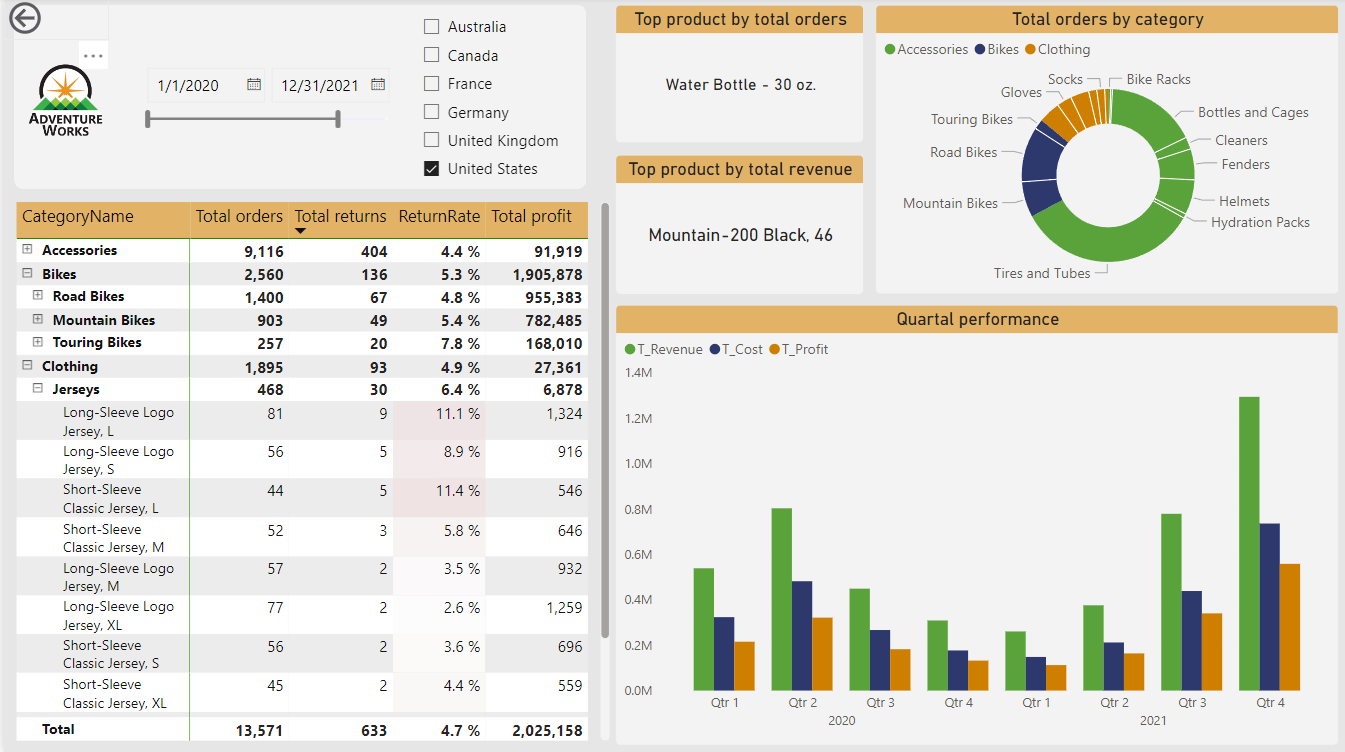

What the dashboard file says about the page in this screenshot:
{"tool":"powerbi","page":{"name":"Page 1","canvas":[1280,720],"ordinal":0},"visuals":[{"type":"shape","box":[9.5,7.4,545.1,175.9],"z":0},{"type":"actionButton","box":[0,0,100,40],"z":1000},{"type":"donutChart","title":"Total orders by category","fields":{"Category":["ProductCategory.CategoryName"],"Series":["AdventureWorks_Product_Subcategories.SubcategoryName"],"Y":["Sum(F_Sales.OrderQuantity)"]},"box":[829.5,7.1,441.5,276.1],"z":2000},{"type":"clusteredColumnChart","title":"Quartal performance","fields":{"Category":["DimCalendar.Date.Variation.Date Hierarchy.Year","DimCalendar.Date.Variation.Date Hierarchy.Quarter"],"Y":["F_Sales.T_Revenue","F_Sales.T_Cost","F_Sales.T_Profit"]},"box":[582,292.8,689.1,420.1],"z":3000},{"type":"pivotTable","fields":{"Rows":["ProductCategory.CategoryName","D_Product_Subcategories.SubcategoryName","D_Products.ProductName"],"Values":["Sum(F_Sales.OrderQuantity)","Sum(AdventureWorks_Returns.ReturnQuantity)","F_Returns.ReturnRate","F_Sales.T_Profit"]},"box":[7.1,190.4,574.8,522.4],"z":4000},{"type":"card","title":"Top product by total orders","fields":{"Values":["Min(D_Products.ProductName)"]},"box":[582,7.1,236.8,132.1],"z":5000},{"type":"card","title":"Top product by total revenue","fields":{"Values":["Min(D_Products.ProductName)"]},"box":[582,150,236.8,133.3],"z":6000},{"type":"slicer","title":"Date filter","fields":{"Values":["Calendar.Date"]},"box":[123.8,57.1,254.7,78.5],"z":7000},{"type":"slicer","fields":{"Values":["D_Territories.Country"]},"box":[386.8,9.5,166.6,173.8],"z":8000},{"type":"image","box":[19,57.1,80.9,84.5],"z":9000}]}

Visuals, with their boxes in screenshot pixels (x1, y1, x2, y2), scaled from the page's 1280x720 canvas onto the 1345x752 screenshot:
shape: locate(10, 8, 583, 191)
actionButton: locate(0, 0, 105, 42)
"Total orders by category" donutChart: locate(872, 7, 1336, 296)
"Quartal performance" clusteredColumnChart: locate(612, 306, 1336, 745)
pivotTable - ProductCategory.CategoryName x D_Product_Subcategories.SubcategoryName: locate(7, 199, 611, 744)
"Top product by total orders" card: locate(612, 7, 860, 145)
"Top product by total revenue" card: locate(612, 157, 860, 296)
"Date filter" slicer: locate(130, 60, 398, 142)
slicer - D_Territories.Country: locate(406, 10, 582, 191)
image: locate(20, 60, 105, 148)
